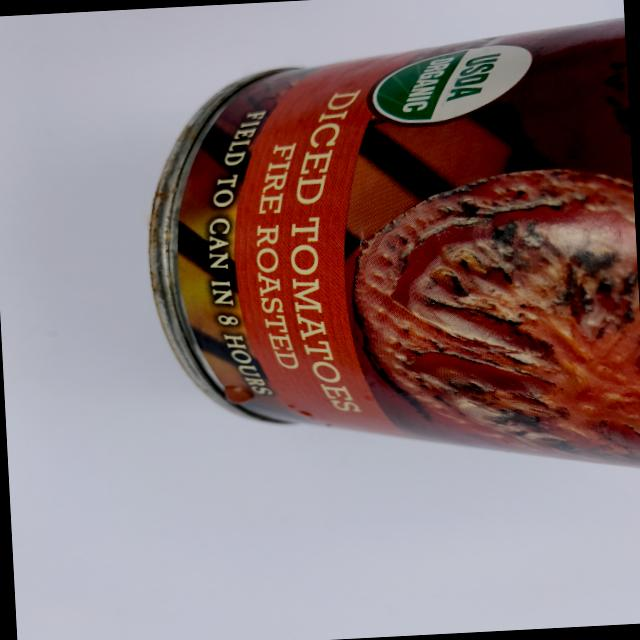Metal: (129, 12, 640, 505)
